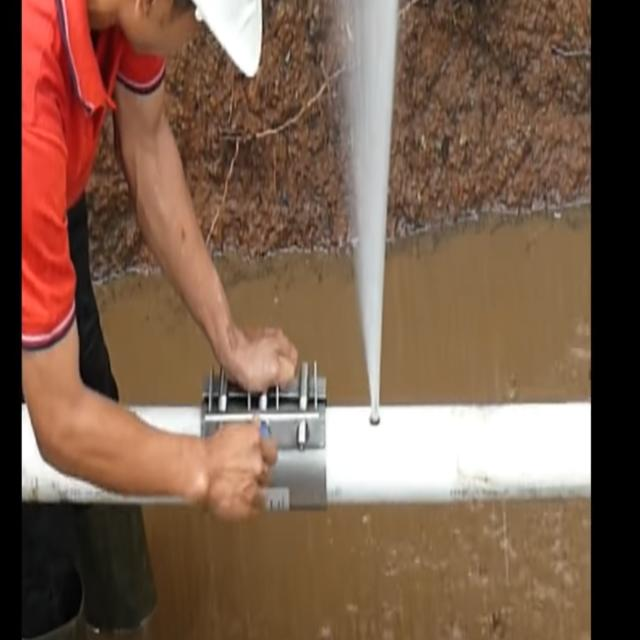leak: (326, 0, 401, 426)
